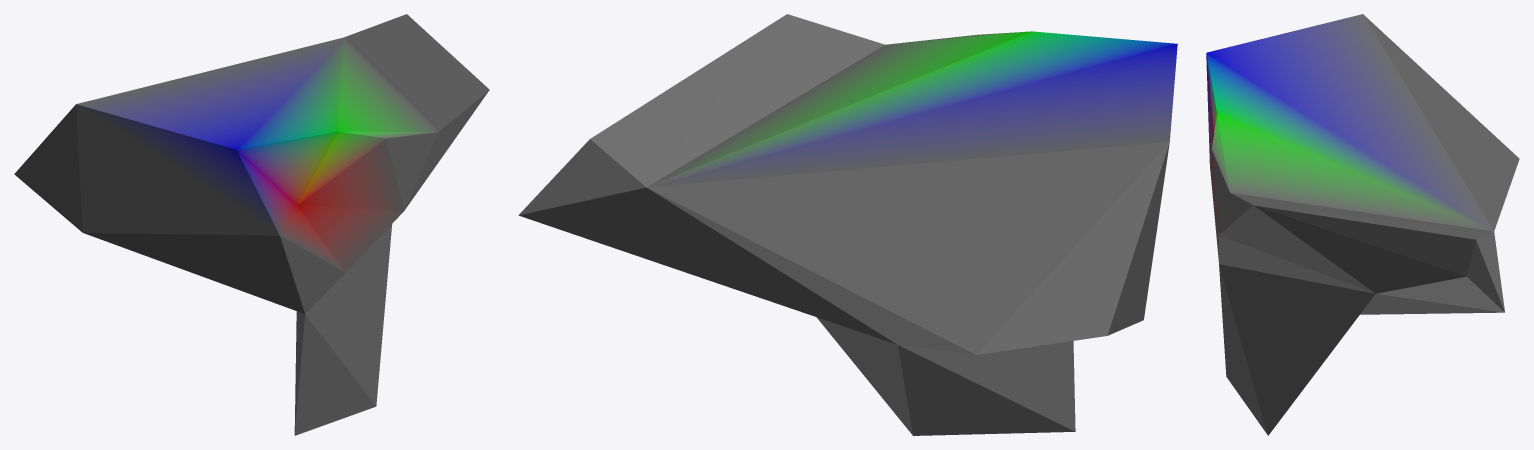
The model's file is Decimate7.obj.
3 views of the same model, side by side, from view 1: azimuth 30°, elevation 25°; view 2: azimuth 150°, elevation 25°; view 3: azimuth 270°, elevation 25° (orthographic). The views are drawn at different scales.
Size of the model in its own units: 2.04 by 1.45 by 1.34.
